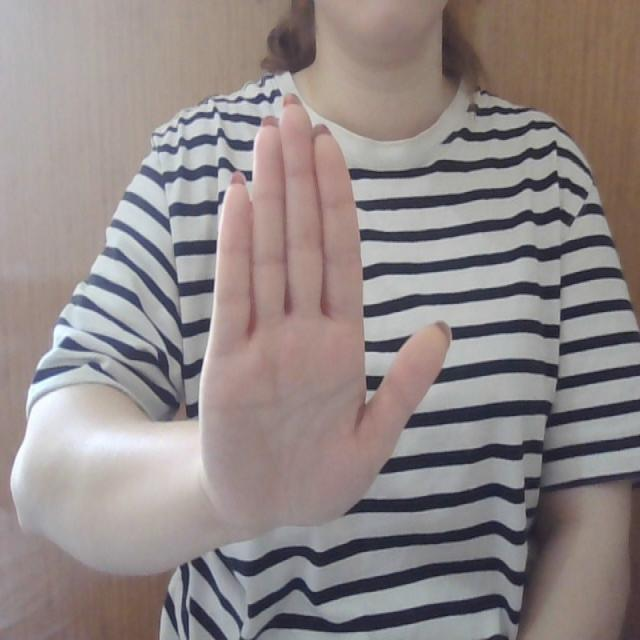Dur: (170, 91, 448, 534)
